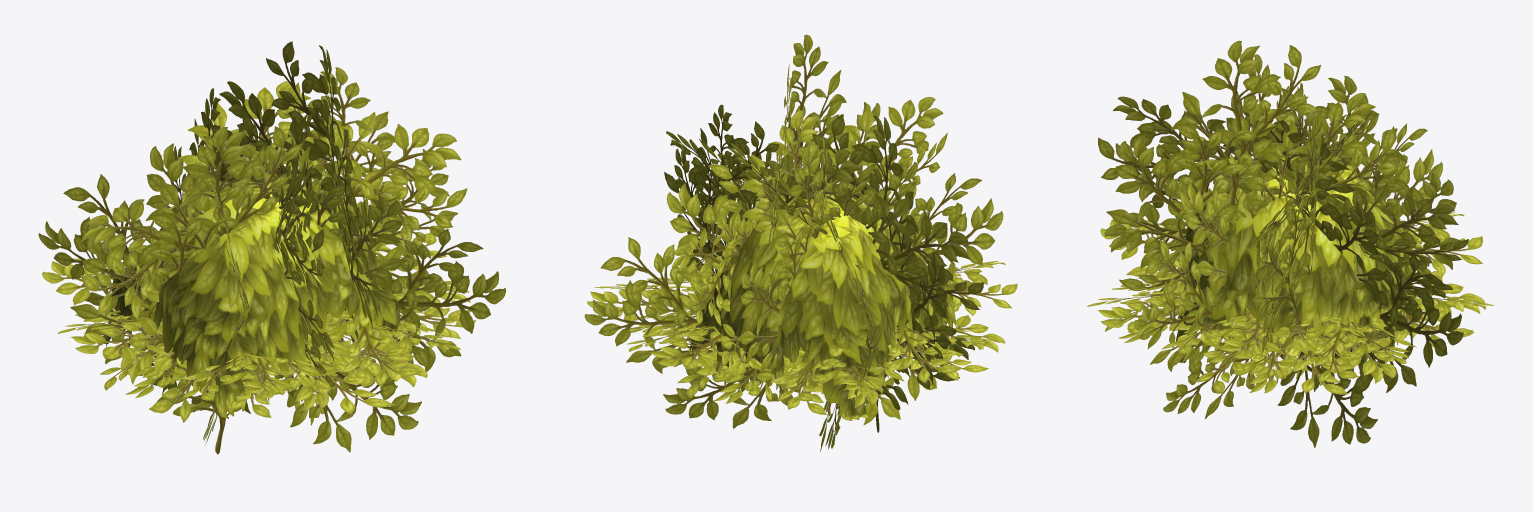
File: bushA.fbx
3 views of the same model, side by side, from view 1: azimuth 30°, elevation 25°; view 2: azimuth 150°, elevation 25°; view 3: azimuth 270°, elevation 25° (orthographic). The views are drawn at different scales.
Parts seen in each view (by area): view 1: bushA; view 2: bushA; view 3: bushA.
Boxes of the visible parts, box(x1,y1,x2,y2) form: bushA: box(38, 41, 505, 454); bushA: box(584, 34, 1017, 452); bushA: box(1087, 40, 1493, 447).
Bounding box in the file's own units: 452 × 475 × 433.
Materials: 1 (1 with a texture image).
